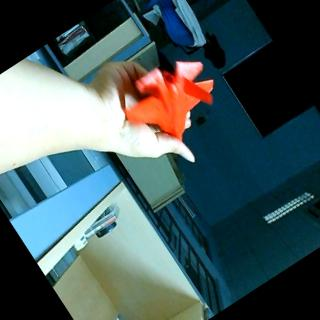Jet: (111, 44, 224, 146)
